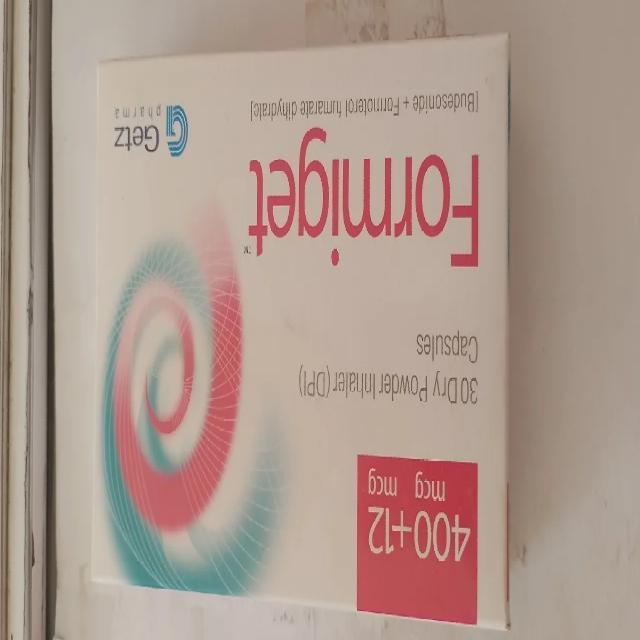drug-name: (235, 123, 487, 275)
